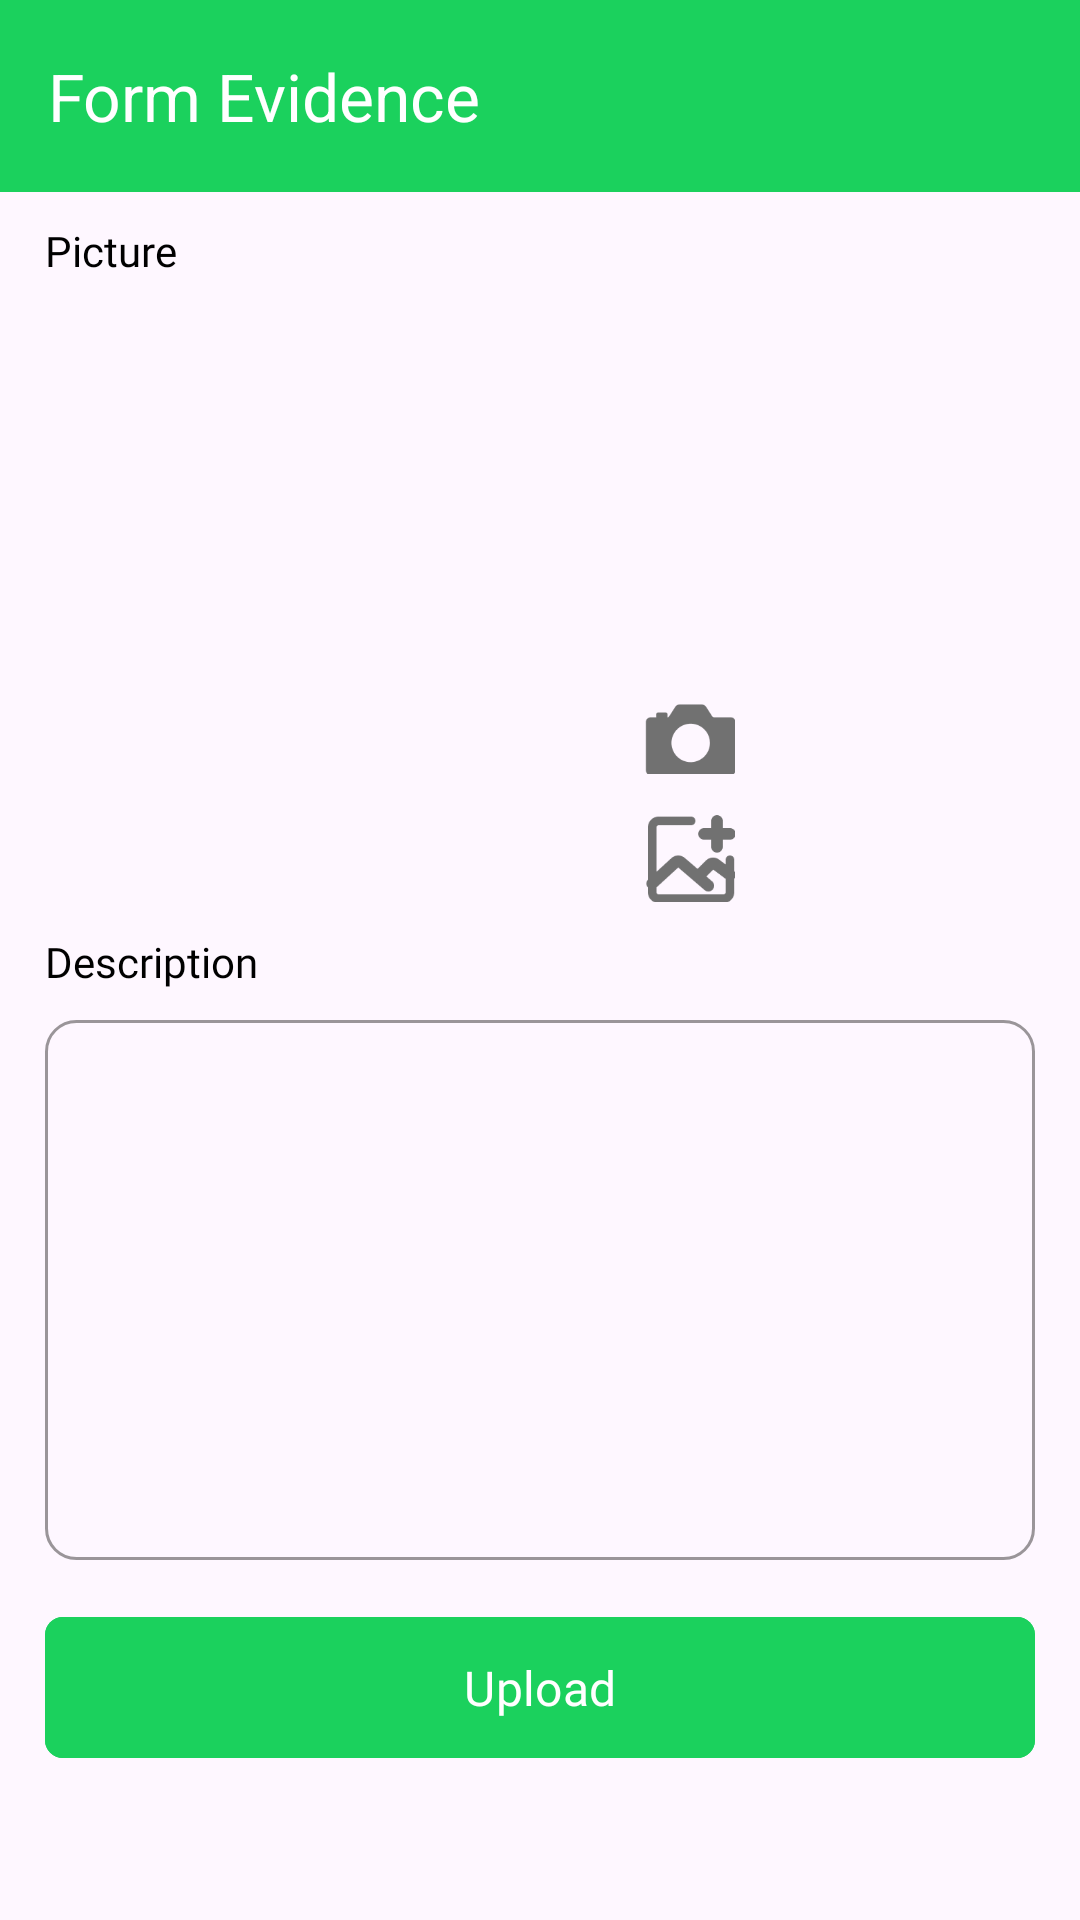

Screen size 1080px×1920px. Icon name, then its box in pixels as (x1, y1, x2, y2):
add galerry: (646, 815, 735, 902)
camera event: (646, 704, 735, 774)
